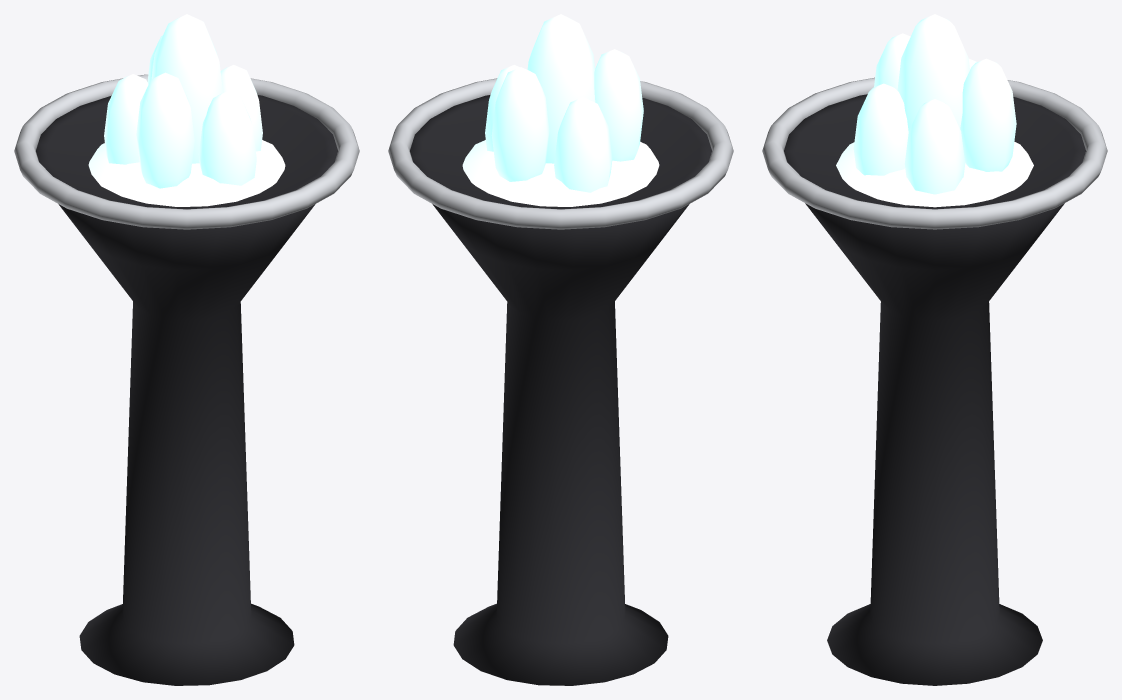
Rendered from brazier_soul_brazier.glb.
3 renders of one model, left to right at view 1: azimuth 30°, elevation 25°; view 2: azimuth 150°, elevation 25°; view 3: azimuth 270°, elevation 25°, orthographic.
Parts seen in each view (by area): view 1: GD_brazier_soul_brazier__m0, GD_brazier_soul_brazier__m2, GD_brazier_soul_brazier__m1; view 2: GD_brazier_soul_brazier__m0, GD_brazier_soul_brazier__m2, GD_brazier_soul_brazier__m1; view 3: GD_brazier_soul_brazier__m0, GD_brazier_soul_brazier__m2, GD_brazier_soul_brazier__m1.
Part boxes in pixels (box(x1,y1,x2,y2)): GD_brazier_soul_brazier__m0: box(36, 95, 337, 685); GD_brazier_soul_brazier__m2: box(88, 14, 285, 206); GD_brazier_soul_brazier__m1: box(14, 74, 359, 229); GD_brazier_soul_brazier__m0: box(410, 95, 711, 685); GD_brazier_soul_brazier__m2: box(462, 14, 659, 206); GD_brazier_soul_brazier__m1: box(388, 78, 733, 229); GD_brazier_soul_brazier__m0: box(784, 94, 1085, 685); GD_brazier_soul_brazier__m2: box(836, 14, 1033, 207); GD_brazier_soul_brazier__m1: box(762, 77, 1107, 229).
Size of the model in its own units: 0.64 by 1.28 by 0.64.
